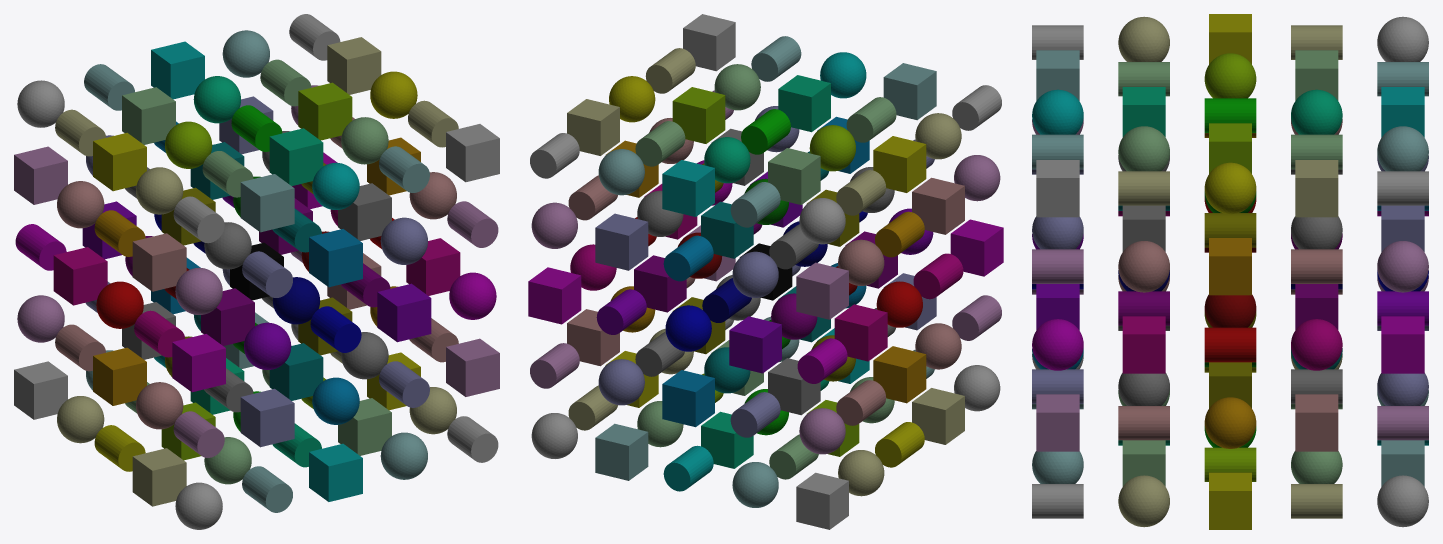
File: scene_trimesh.glb
3 renders of one model, left to right at view 1: azimuth 30°, elevation 25°; view 2: azimuth 150°, elevation 25°; view 3: azimuth 270°, elevation 25°, orthographic. The views are drawn at different scales.
Parts seen in each view (by area): view 1: world; view 2: world; view 3: world.
Boxes of the visible parts, x1,y1,x2,y2 form: world: (14, 14, 499, 529); world: (528, 14, 1003, 529); world: (1032, 14, 1428, 529).
Size of the model in its own units: 4.6 by 4.6 by 4.6.
